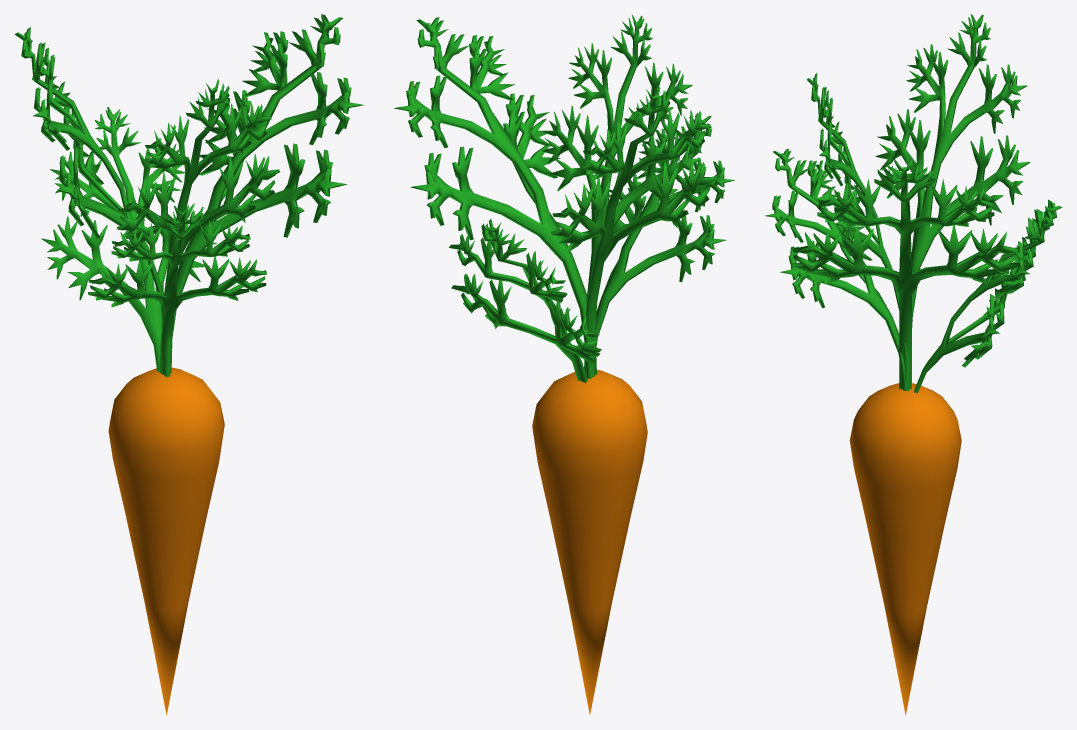
Rendered from Carrot.fbx.
3 views of the same model, side by side, from view 1: azimuth 30°, elevation 25°; view 2: azimuth 150°, elevation 25°; view 3: azimuth 270°, elevation 25° (orthographic). The views are drawn at different scales.
Visible parts, largest first — view 1: Carrot; view 2: Carrot; view 3: Carrot.
Part boxes in pixels (box(x1,y1,x2,y2)): Carrot: box(14, 14, 363, 714); Carrot: box(394, 14, 734, 714); Carrot: box(765, 14, 1062, 715).
Size of the model in its own units: 0.4639 by 0.413 by 0.9976.
